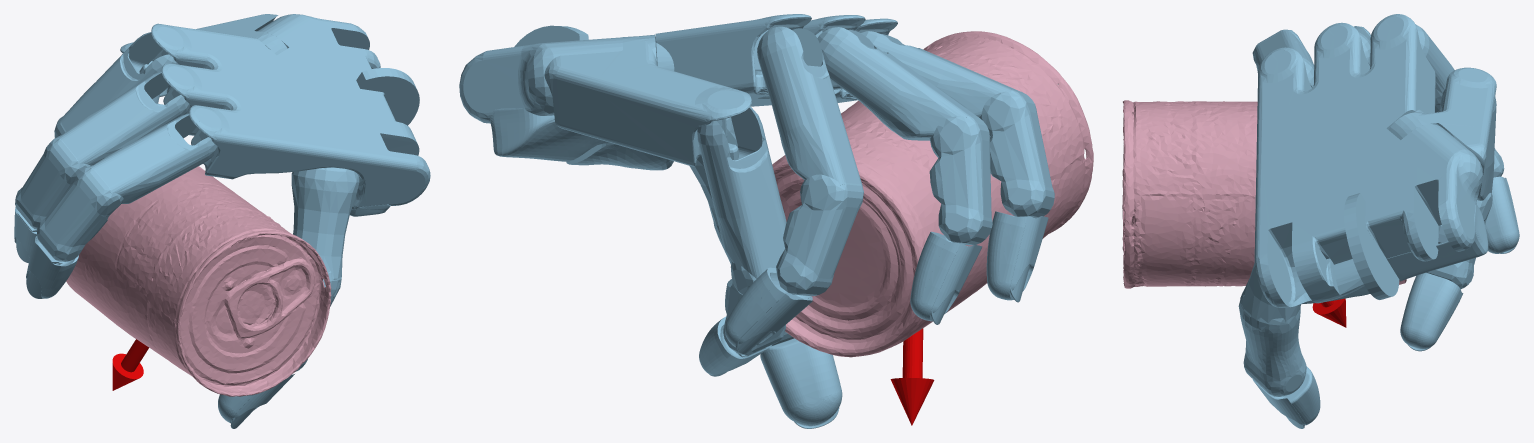
3 renders of one model, left to right at view 1: azimuth 30°, elevation 25°; view 2: azimuth 150°, elevation 25°; view 3: azimuth 270°, elevation 25°, orthographic. The views are drawn at different scales.
Parts seen in each view (by area): view 1: world, tomato_soup_can.stl; view 2: world, tomato_soup_can.stl; view 3: world, tomato_soup_can.stl.
Part boxes in pixels (x1,y1,x2,y2): world: (14, 14, 430, 428); tomato_soup_can.stl: (66, 166, 331, 396); world: (459, 14, 1054, 428); tomato_soup_can.stl: (772, 31, 1093, 357); world: (1238, 14, 1519, 428); tomato_soup_can.stl: (1122, 100, 1406, 288).
Size of the model in its own units: 0.177 by 0.1559 by 0.1422.
